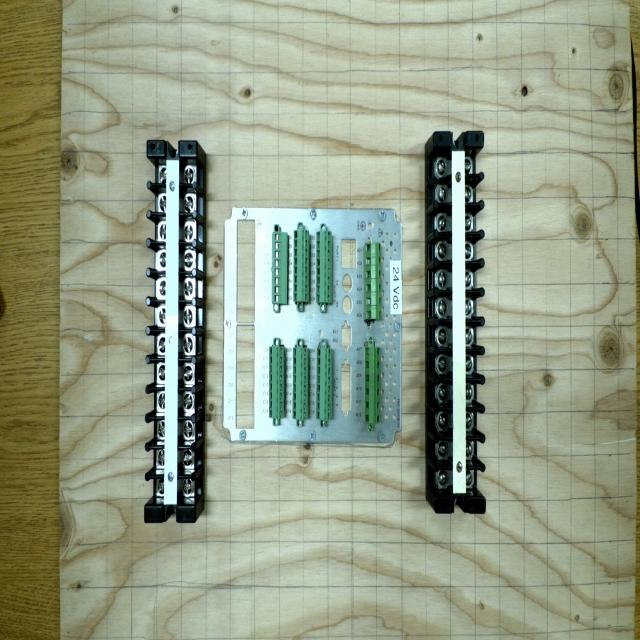Flathead_Block: (434, 132, 485, 513)
Phillips_Block: (144, 140, 197, 523)
Terminal_1: (365, 243, 382, 319), (365, 347, 380, 424)
Terminal_2: (316, 348, 332, 421), (316, 230, 332, 303), (293, 229, 309, 302), (269, 346, 284, 419), (293, 348, 308, 420)
